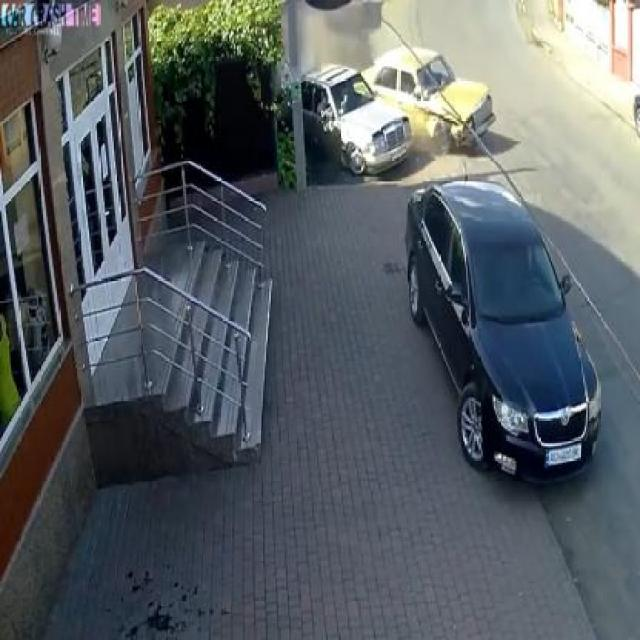accident: (284, 33, 496, 176)
